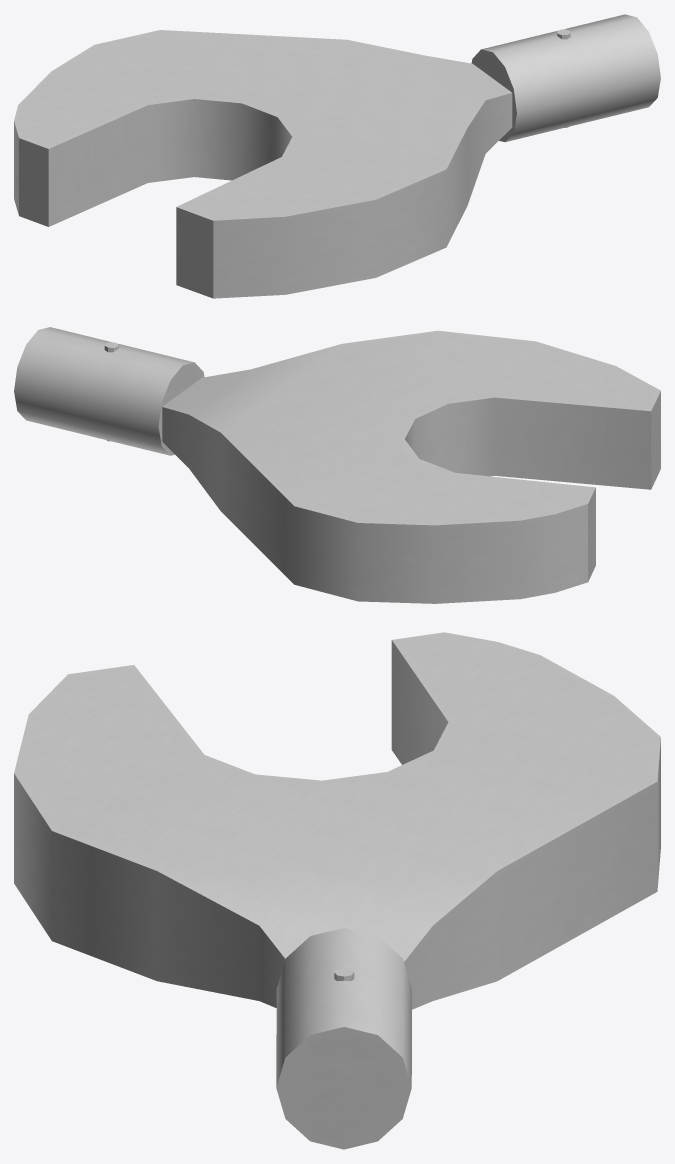
Rendered from tool_torque_wrench_nozzle_06.glb.
3 views of the same model, one above another, from view 1: azimuth 30°, elevation 25°; view 2: azimuth 150°, elevation 25°; view 3: azimuth 270°, elevation 25° (orthographic). The views are drawn at different scales.
Parts seen in each view (by area): view 1: tool_torque_wrench_nozzle_06; view 2: tool_torque_wrench_nozzle_06; view 3: tool_torque_wrench_nozzle_06.
Part boxes in pixels (x1,y1,x2,y2): tool_torque_wrench_nozzle_06: (14, 14, 660, 298); tool_torque_wrench_nozzle_06: (14, 327, 660, 603); tool_torque_wrench_nozzle_06: (14, 632, 660, 1149).
Bounding box in the file's own units: 0.0882 × 0.0135 × 0.0601.
1 material, 1 textured.
